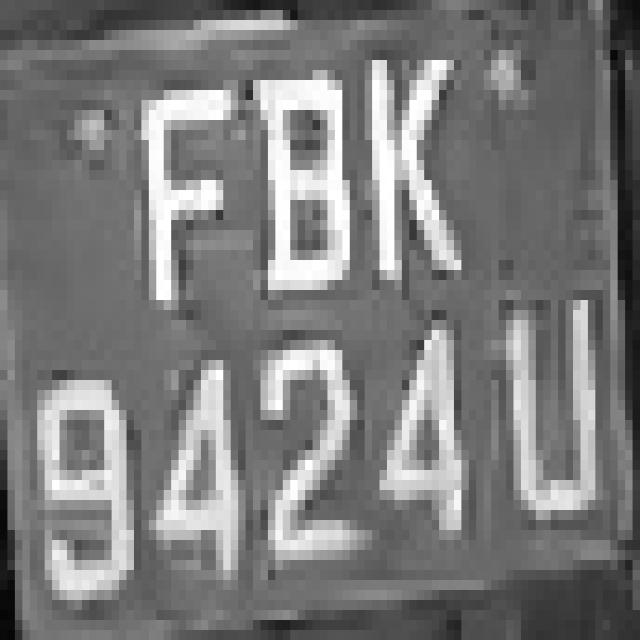2: (238, 310, 365, 600)
4: (357, 300, 491, 570), (141, 330, 253, 600)
9: (22, 340, 142, 630)
B: (230, 50, 364, 340)
F: (127, 70, 238, 350)
K: (342, 30, 462, 320)
U: (476, 260, 633, 550)
